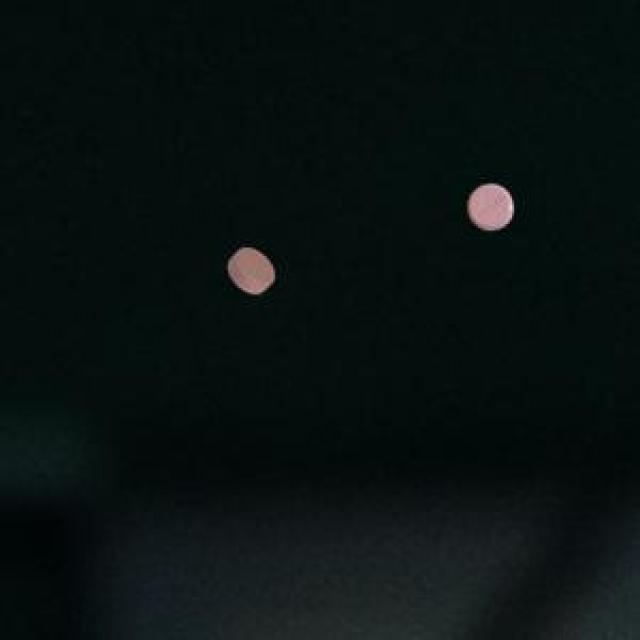Kremil_S: (222, 238, 281, 304), (465, 177, 517, 241)
